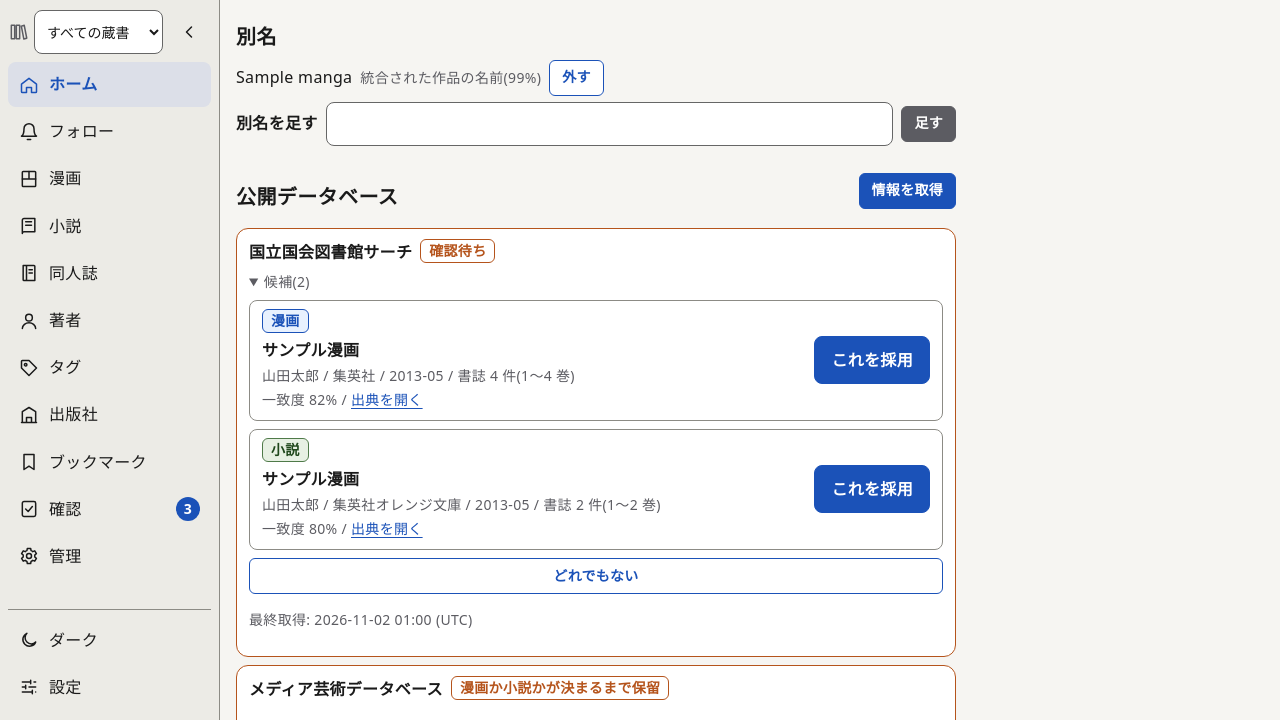
公開データベースの情報(#50) › あらすじは表示も編集もしない(#82。公開データベースと連携しても)
(page scrolled)
Click the button with aria-label "サンプル漫画(漫画・集英社) を採用". click: (872, 360)
box: [814,336,930,384]
(page scrolled)
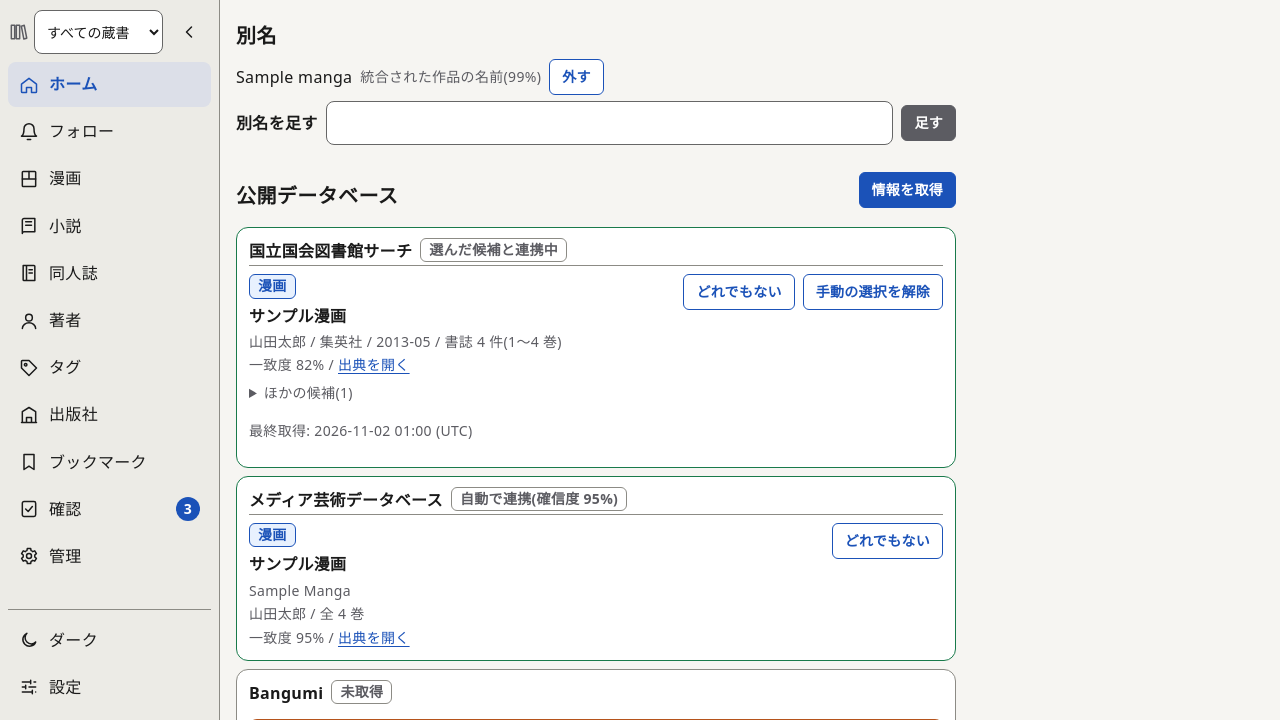
Expected: the text "自動で連携(確信度 95%)" is shown, [451,487,627,511]
